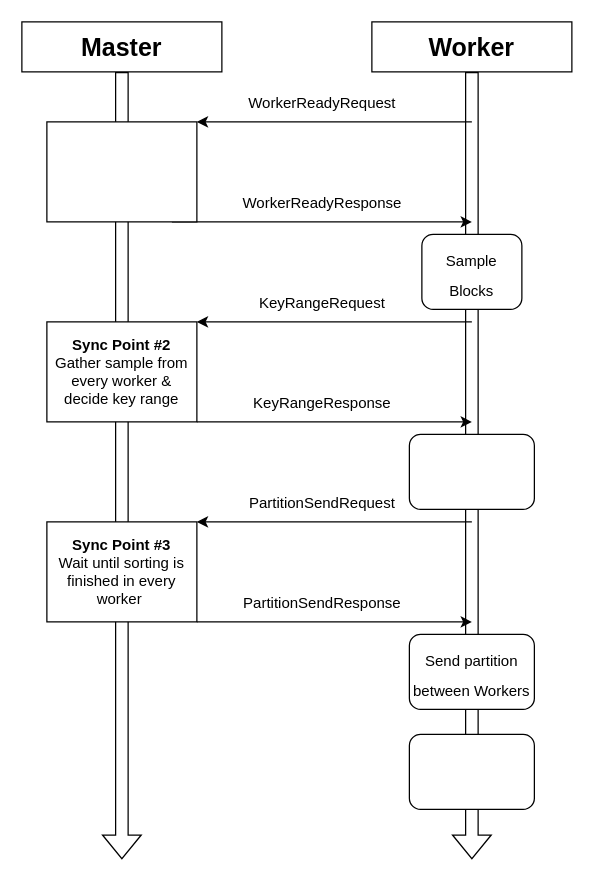
The diagram is 594 pixels wide and 881 high, and some of its shapes have lost their labels. The shapes that lost their labels are listed below. From the top down, each one's centre as x and y in pixels, then its label:
At (x=121, y=171): "Sync Point #1 Wait until every worker is ready".
At (x=471, y=471): "Sort Blocks & Divide Partition".
At (x=471, y=771): "Disk-based Merge".
